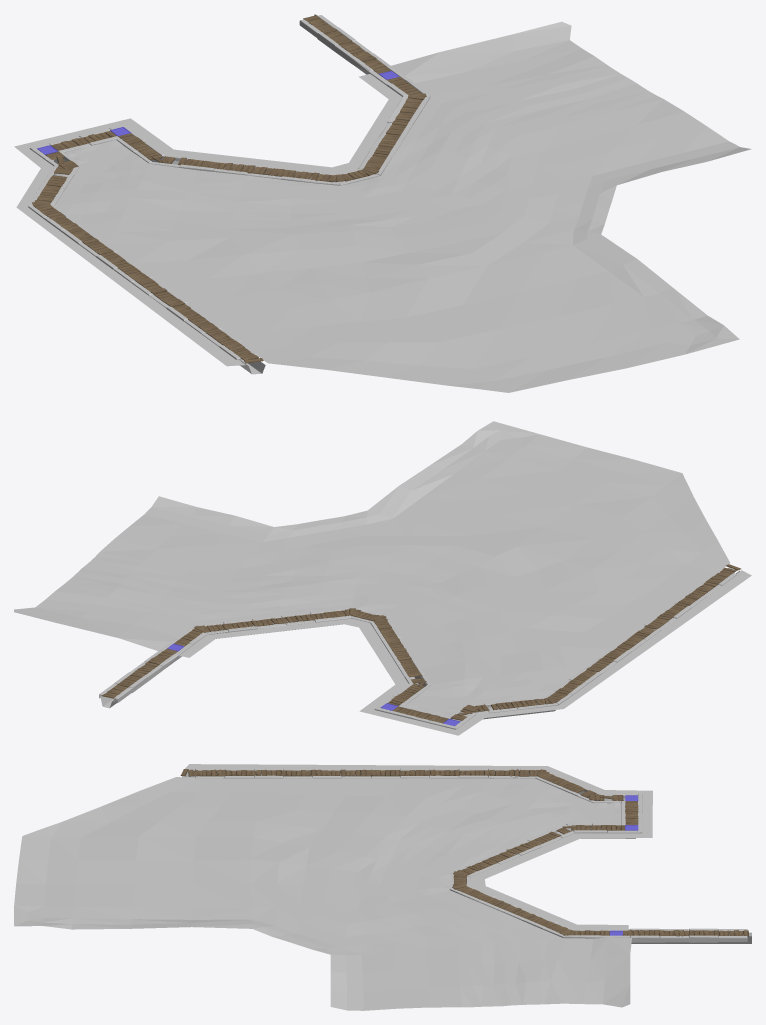
Rendered from SM_ENV_KNVLLG_ground_10.mo.fbx.
3 views of the same model, one above another, from view 1: azimuth 30°, elevation 25°; view 2: azimuth 150°, elevation 25°; view 3: azimuth 270°, elevation 25° (orthographic). The views are drawn at different scales.
Visible parts, largest first — view 1: SM_ENV_KNVLLG_ground_10.mo; view 2: SM_ENV_KNVLLG_ground_10.mo; view 3: SM_ENV_KNVLLG_ground_10.mo.
Part boxes in pixels (left/top/right/bottom): SM_ENV_KNVLLG_ground_10.mo: left=14, top=14, right=751, bottom=392; SM_ENV_KNVLLG_ground_10.mo: left=14, top=421, right=751, bottom=735; SM_ENV_KNVLLG_ground_10.mo: left=14, top=764, right=751, bottom=1010.
Size of the model in its own units: 44.92 by 1.12 by 56.49.
